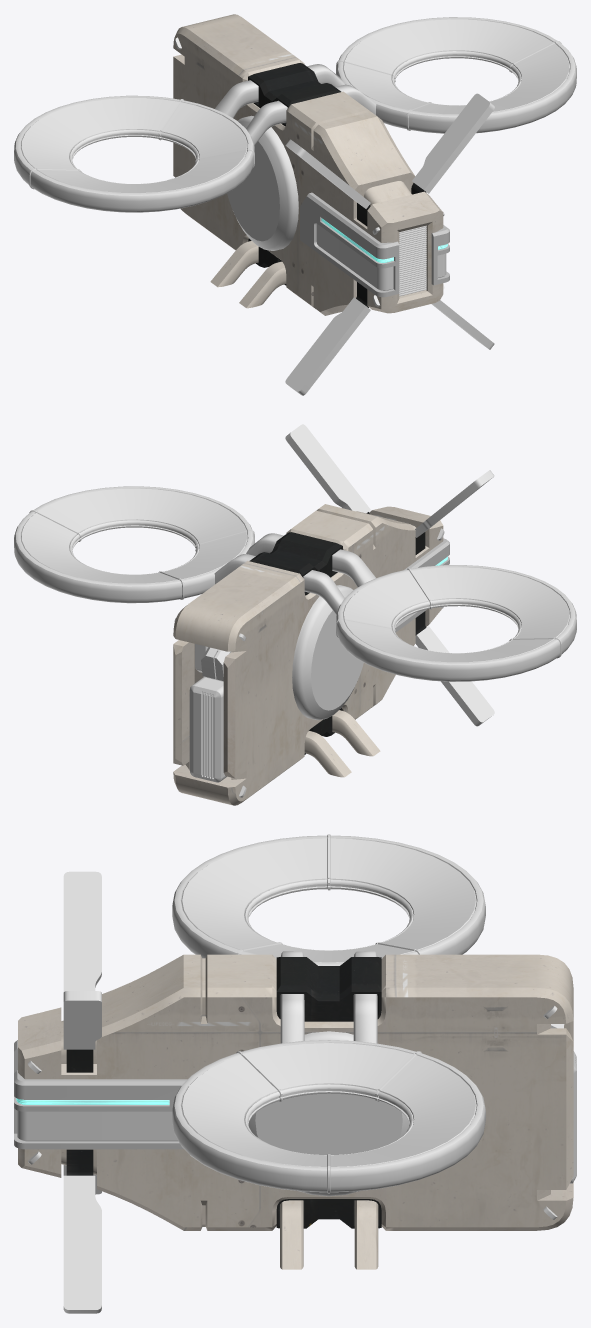
The model's file is KB3D_CBP_Drone_A.fbx.
3 renders of one model, top to bottom at view 1: azimuth 30°, elevation 25°; view 2: azimuth 150°, elevation 25°; view 3: azimuth 270°, elevation 25°, orthographic. The views are drawn at different scales.
Visible parts, largest first — view 1: KB3D_CBP_Drone_A_Main; view 2: KB3D_CBP_Drone_A_Main; view 3: KB3D_CBP_Drone_A_Main.
Part boxes in pixels (x1,y1,x2,y2): KB3D_CBP_Drone_A_Main: (14,14,576,395); KB3D_CBP_Drone_A_Main: (14,424,576,805); KB3D_CBP_Drone_A_Main: (14,834,576,1313).
Size of the model in its own units: 506 by 225 by 356.
